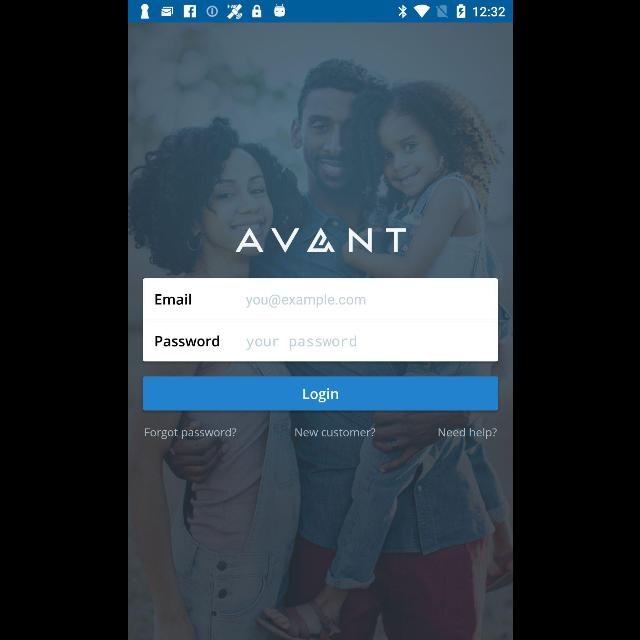backgroundimage: (128, 24, 512, 640)
image: (234, 228, 406, 252)
input: (143, 278, 497, 320), (143, 321, 497, 362)
text: (246, 294, 364, 308), (246, 336, 356, 350), (144, 427, 236, 439), (438, 428, 496, 440), (155, 336, 219, 346), (295, 428, 375, 436), (155, 294, 191, 304)
textbutton: (142, 377, 498, 411)
uppertaskbar: (128, 1, 512, 23)
